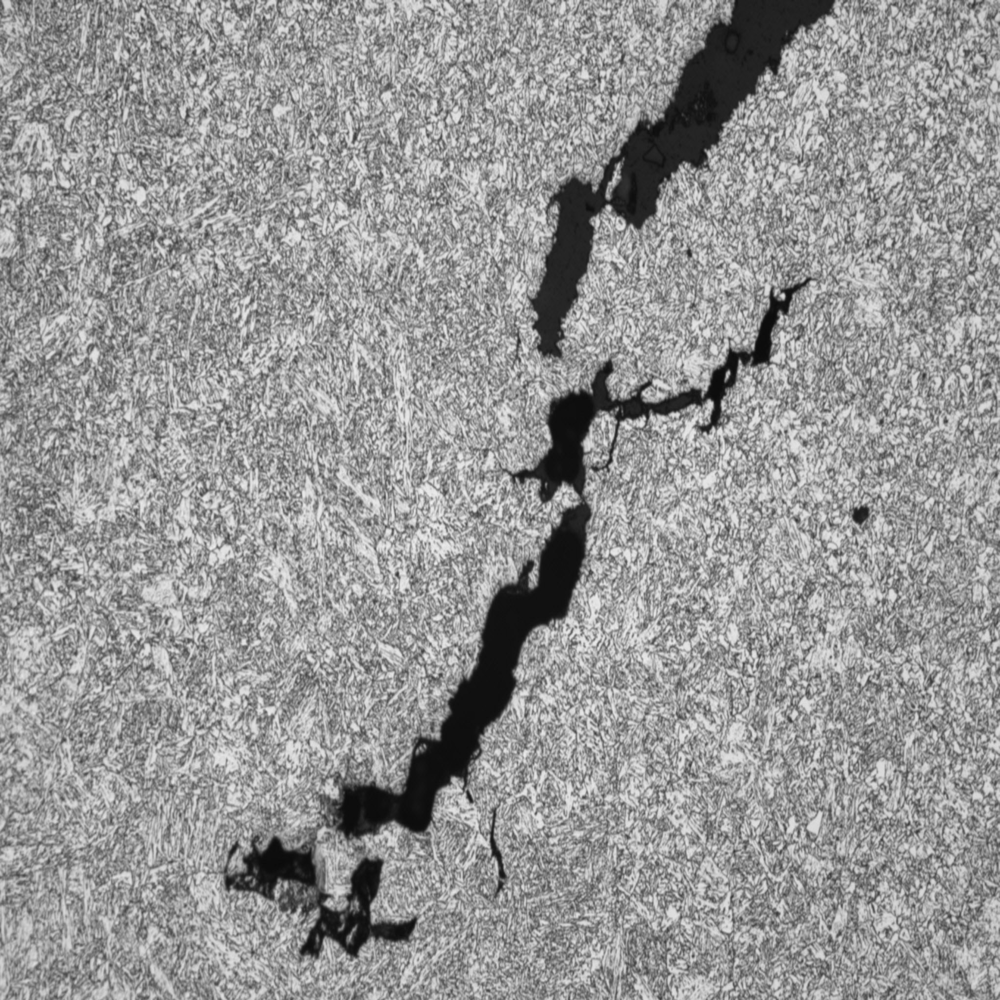crack: (264, 7, 857, 977)
